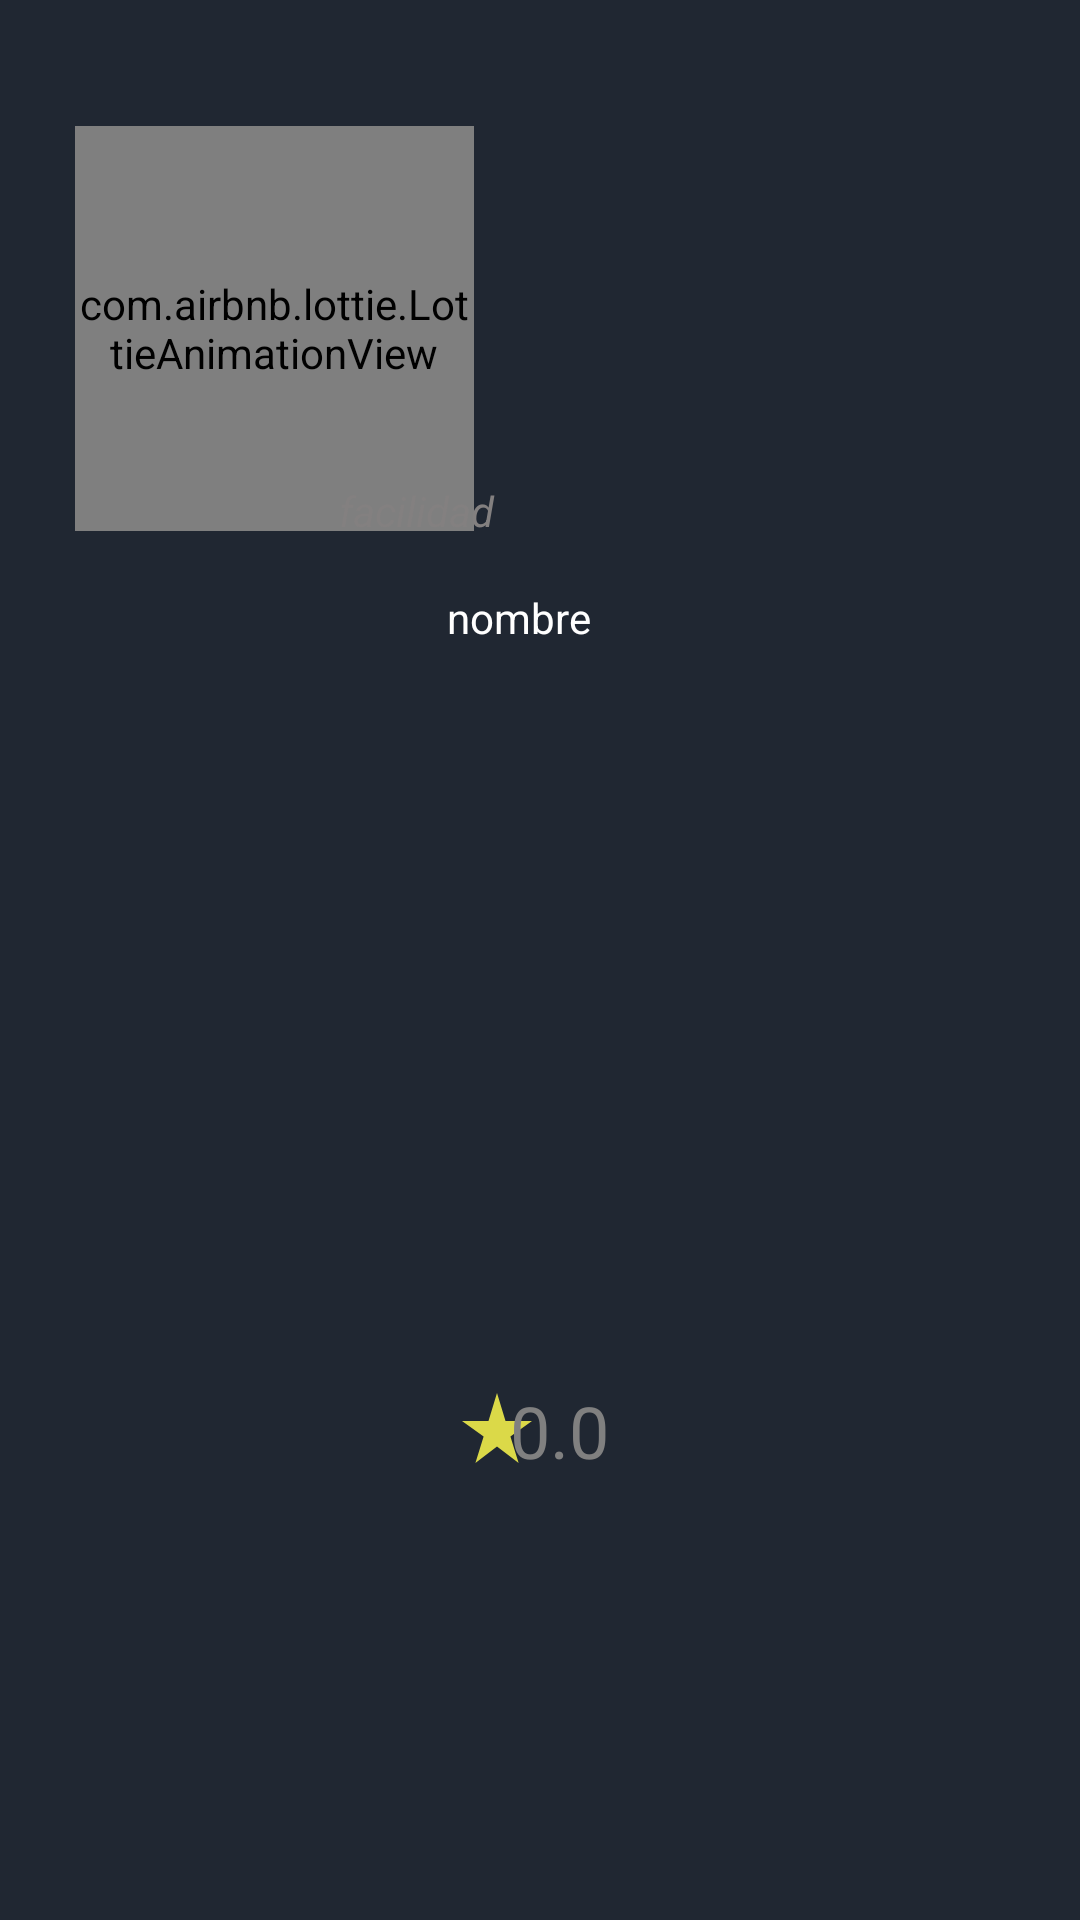

Icons on this 1080w x 1920h Android screen, each with the point to tap as (x=x, y=y):
star rate: (x=500, y=1428)
